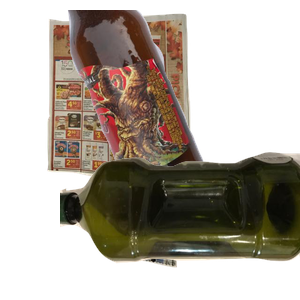glass: (65, 10, 300, 190)
paper: (44, 11, 229, 181)
plastic: (60, 149, 300, 300)
trash: (104, 152, 280, 300)
